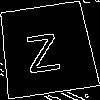Z: (21, 24, 61, 74)
